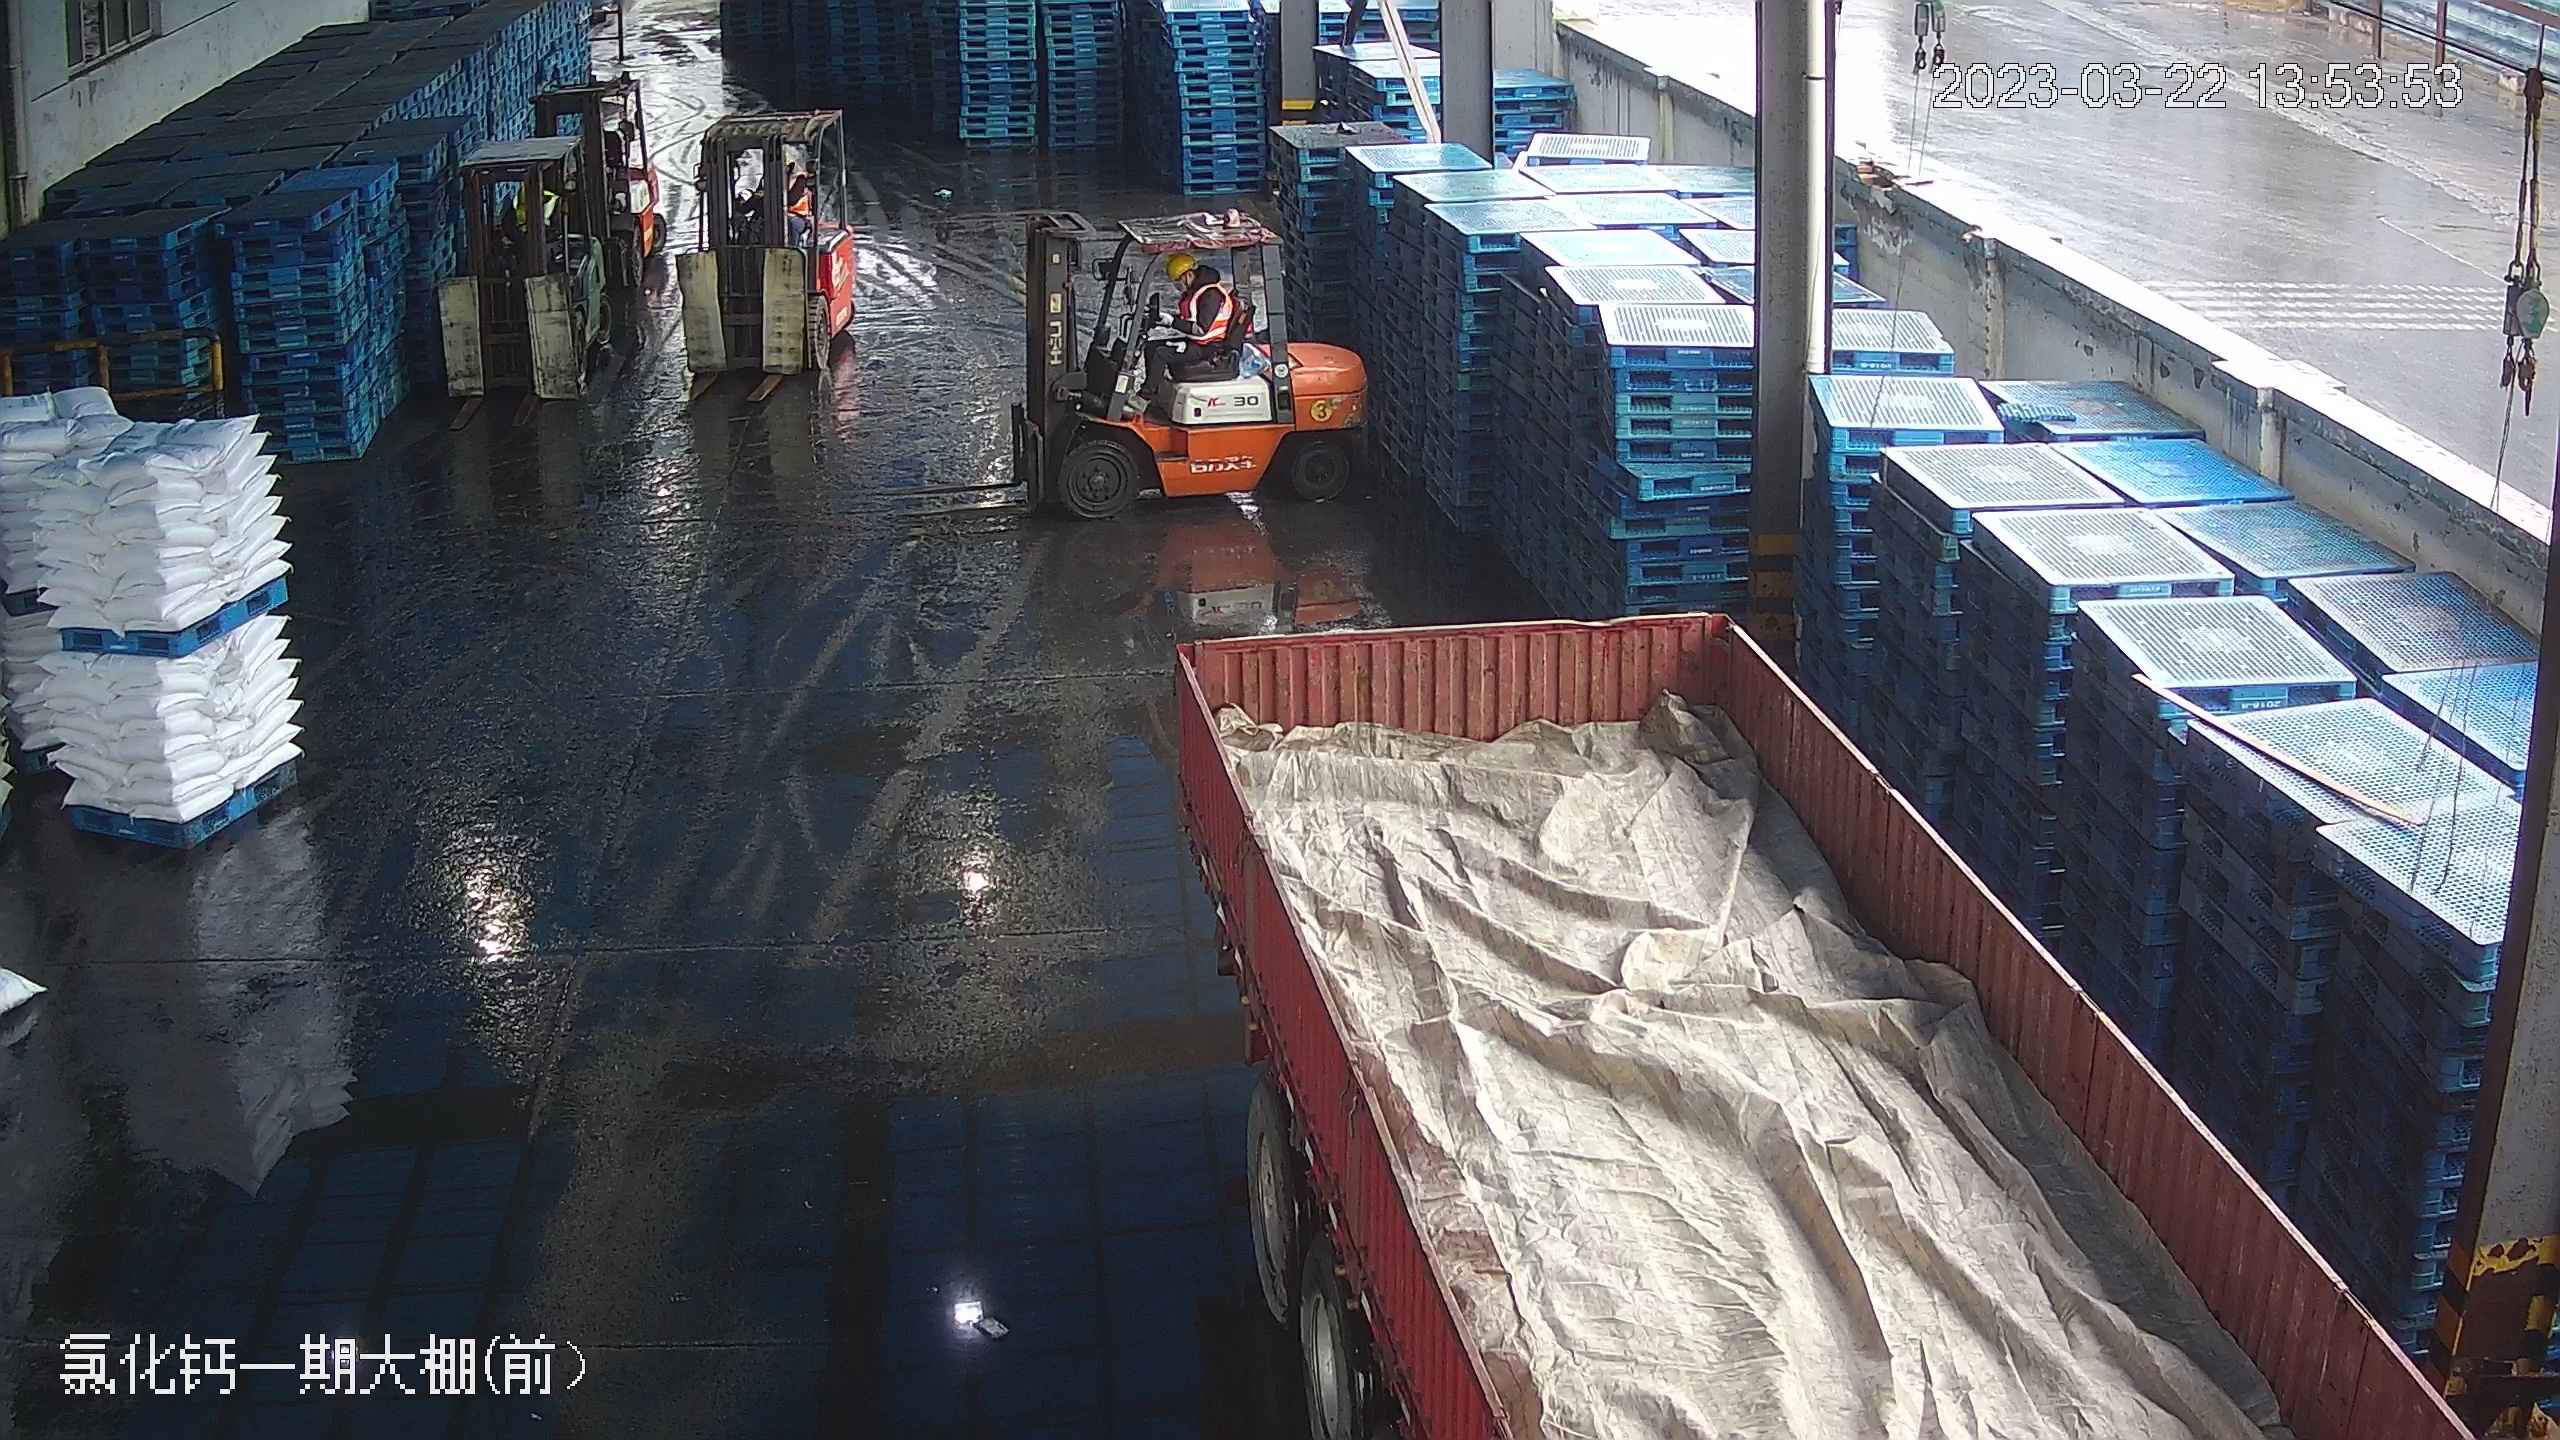head: (1162, 252, 1231, 317)
helmet: (1166, 252, 1199, 278)
people: (1135, 250, 1236, 405)
truck: (1141, 607, 2494, 1440)
